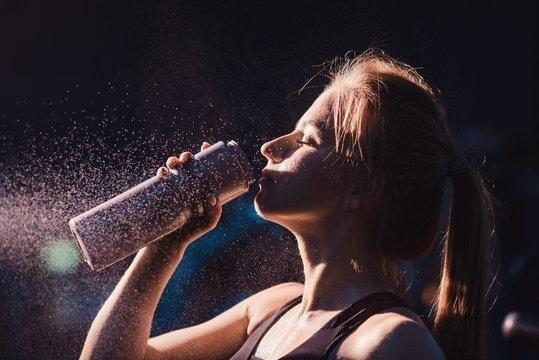gym bottle: (68, 138, 263, 270)
